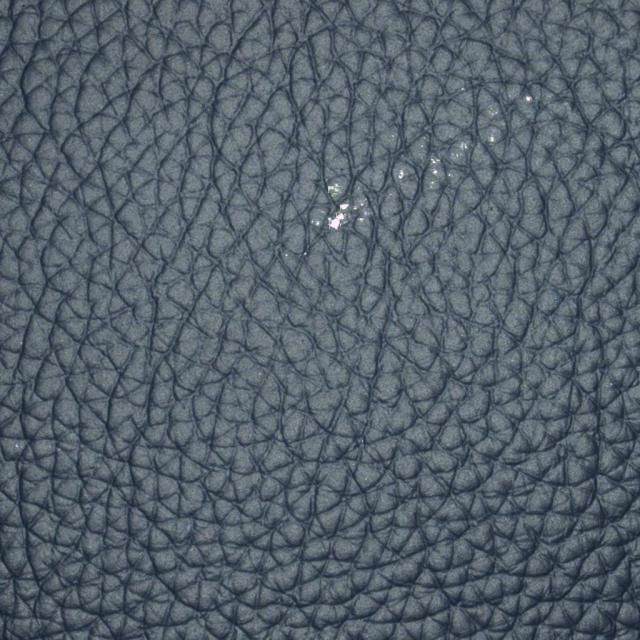Rotten surface: (288, 73, 577, 252)
